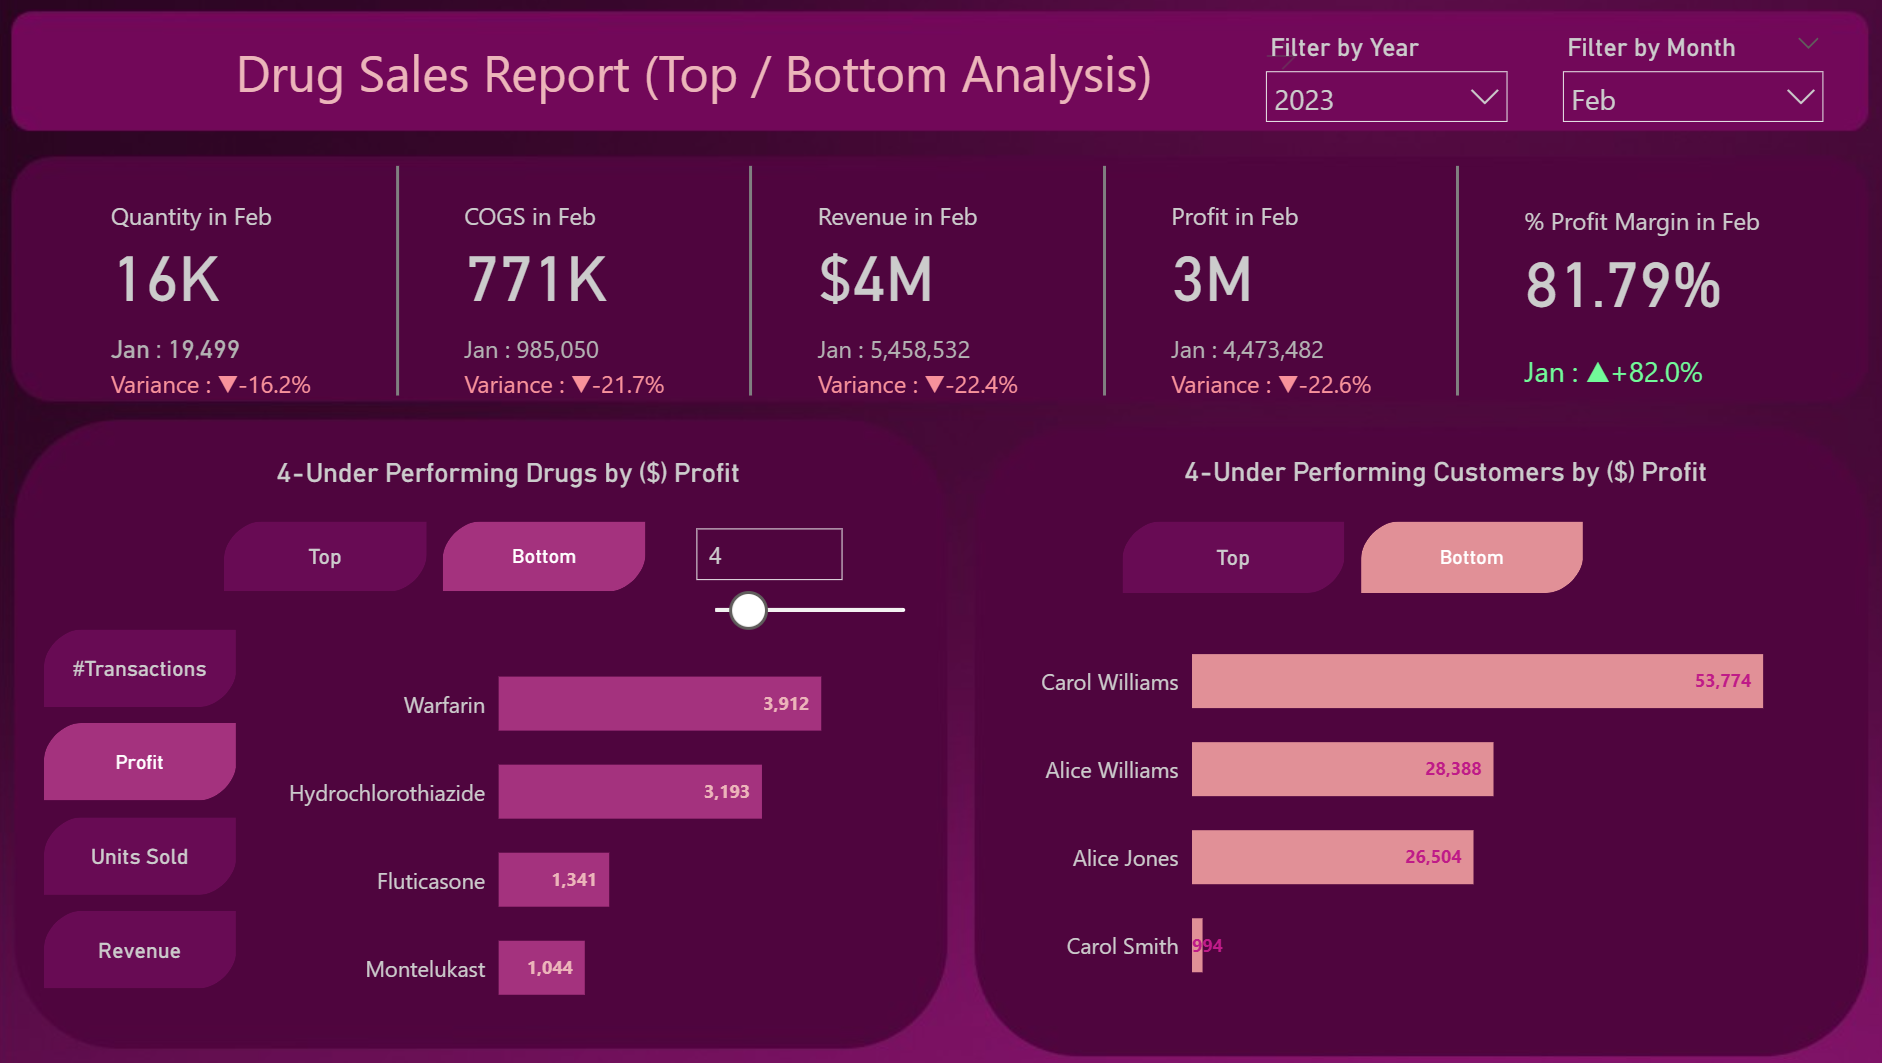

The page's visual inventory and layout, read from the dashboard file:
{"tool":"powerbi","page":{"name":"Top Bottom","canvas":[1280,720],"ordinal":0},"visuals":[{"type":"cardVisual","fields":{"Data":["Calculations.Quantity Sold","Calculations.Total COGS","Calculations.Total Revenue","Calculations.Profit","Calculations.% Profit Margin"]},"box":[57.4,96.1,1187.4,188.7],"z":0},{"type":"slicer","fields":{"Values":["Calendar.Month"]},"box":[1050.3,18.8,194.6,77.4],"z":1000},{"type":"slicer","fields":{"Values":["Top/Bottom Drugs Slide.Top/Bottom"]},"box":[465.3,347,174.7,87.9],"z":2000},{"type":"clusteredBarChart","fields":{"Y":["Calculations.Drug Dynamic Bottom"],"Category":["DrugLookup.DrugName"]},"box":[188.7,419.6,412.6,281.3],"z":3000},{"type":"advancedSlicerVisual","fields":{"Values":["Switch Drug Top/Bottom.Switch Drug Top/Bottom"]},"box":[157.1,347,293,57.4],"z":4000},{"type":"advancedSlicerVisual","fields":{"Values":["Active Measures.Active Measures"]},"box":[36.3,419.6,139.5,254.4],"z":5000},{"type":"card","fields":{"Values":["Active Measures.Title"]},"box":[130.1,291.9,445.4,55.1],"z":6000},{"type":"advancedSlicerVisual","fields":{"Values":["Switch Customer Top/Bottom.Switch Customer Top/Bottom"]},"box":[759.4,347.1,320.7,58.3],"z":7000},{"type":"card","fields":{"Values":["Active Measures.Title : Customers"]},"box":[758.4,290.7,445.4,56.3],"z":8000},{"type":"clusteredBarChart","fields":{"Y":["Calculations.Customer Dynamic Bottom"],"Category":["CustomerTable.Full Name"]},"box":[696.3,404.4,548.6,281.3],"z":9000},{"type":"textSlicer","box":[157.1,18.8,739.6,92.6],"z":10000},{"type":"slicer","fields":{"Values":["Calendar.Year"]},"box":[851,18.8,181.7,91.4],"z":11000}]}

Visuals, with their boxes in screenshot pixels (x1, y1, x2, y2), scaled from the page's 1280x720 canvas onto the 1882x1063 screenshot:
cardVisual - Calculations.Quantity Sold x Calculations.Total COGS: bbox=(84, 142, 1830, 420)
slicer - Calendar.Month: bbox=(1544, 28, 1830, 142)
slicer - Top/Bottom Drugs Slide.Top/Bottom: bbox=(684, 512, 941, 642)
clusteredBarChart - Calculations.Drug Dynamic Bottom x DrugLookup.DrugName: bbox=(277, 619, 884, 1035)
advancedSlicerVisual - Switch Drug Top/Bottom.Switch Drug Top/Bottom: bbox=(231, 512, 662, 597)
advancedSlicerVisual - Active Measures.Active Measures: bbox=(53, 619, 258, 995)
card - Active Measures.Title: bbox=(191, 431, 846, 512)
advancedSlicerVisual - Switch Customer Top/Bottom.Switch Customer Top/Bottom: bbox=(1117, 512, 1588, 599)
card - Active Measures.Title : Customers: bbox=(1115, 429, 1770, 512)
clusteredBarChart - Calculations.Customer Dynamic Bottom x CustomerTable.Full Name: bbox=(1024, 597, 1830, 1012)
textSlicer: bbox=(231, 28, 1318, 164)
slicer - Calendar.Year: bbox=(1251, 28, 1518, 163)
